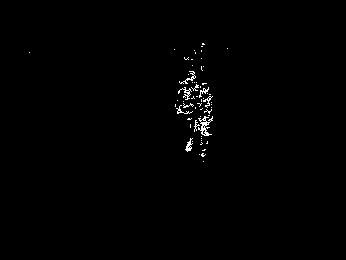person: (174, 68, 200, 154), (192, 79, 216, 161)
